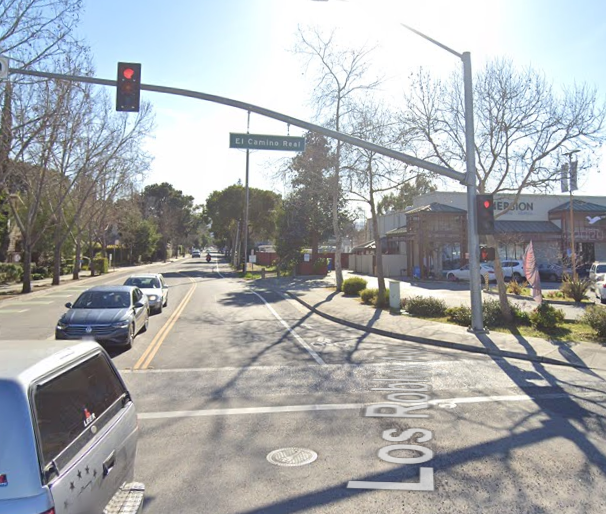red_light: (118, 64, 140, 112), (476, 195, 495, 235)
